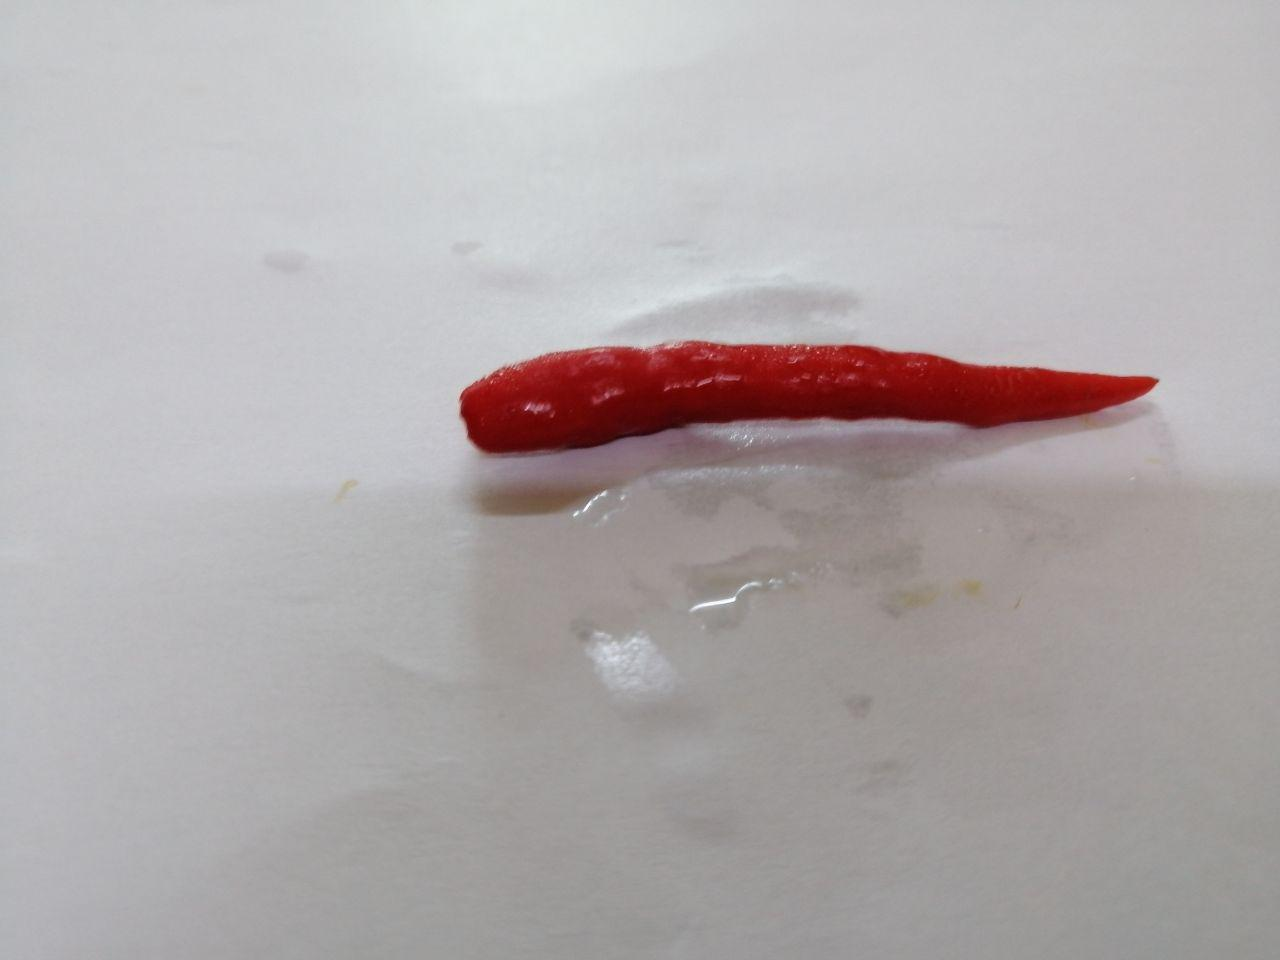lada merah: (427, 290, 1185, 494)
